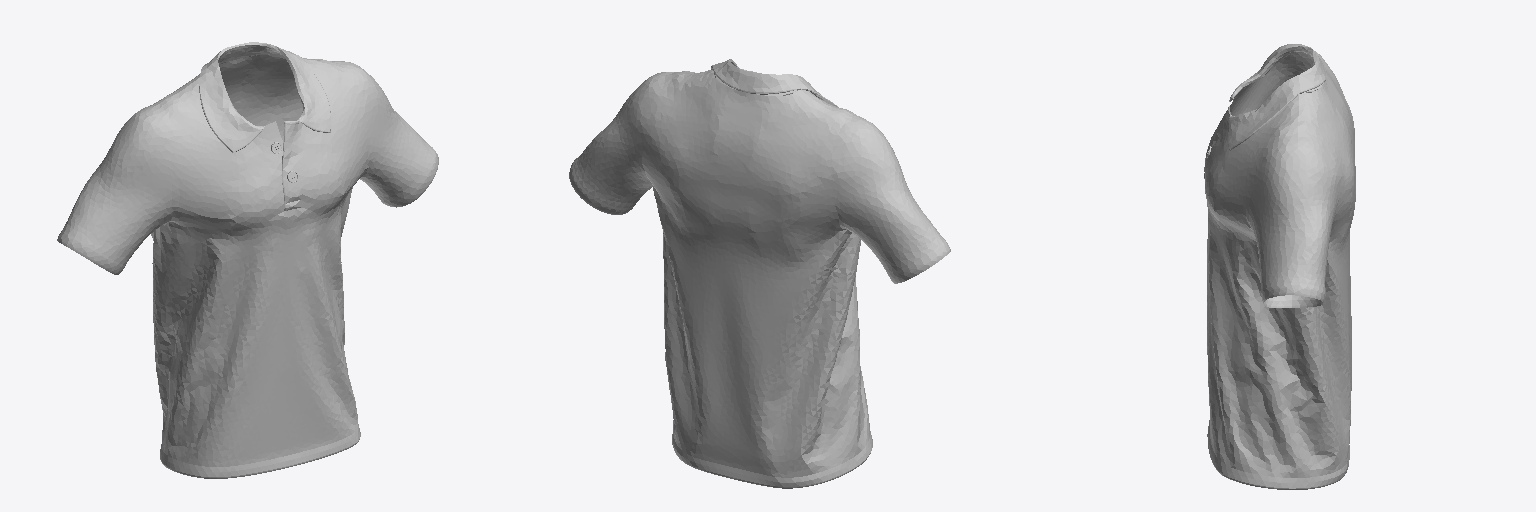
The model's file is Tshirt.obj.
3 renders of one model, left to right at view 1: azimuth 30°, elevation 25°; view 2: azimuth 150°, elevation 25°; view 3: azimuth 270°, elevation 25°, orthographic.
Visible parts, largest first — view 1: aaa; view 2: aaa; view 3: aaa.
Boxes of the visible parts, <box> form: aaa: <box>57,42,438,478</box>; aaa: <box>569,59,950,488</box>; aaa: <box>1204,44,1355,489</box>.
Size of the model in its own units: 72.67 by 73.53 by 25.52.